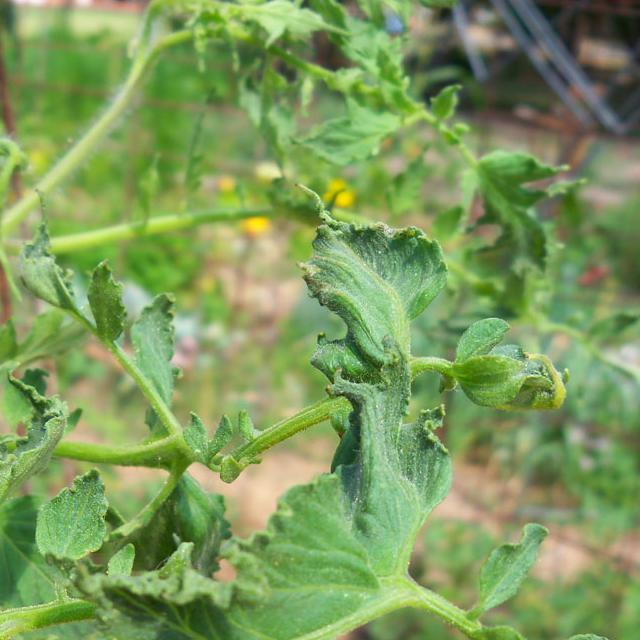Tomato leaf mosaic virus: (295, 182, 455, 595), (109, 473, 416, 640), (29, 467, 115, 562), (131, 280, 183, 413), (476, 600, 640, 640)
